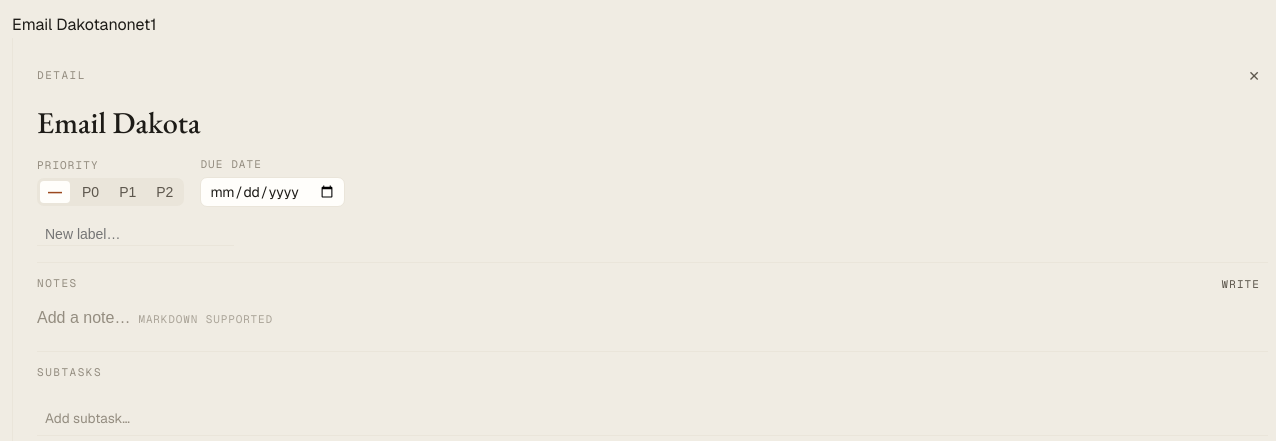
Test: DetailPaneView (store-wired) › optimistically persists a priority change
Click the button named "set priority p1": (128, 192) left=111, top=181, right=144, bottom=203
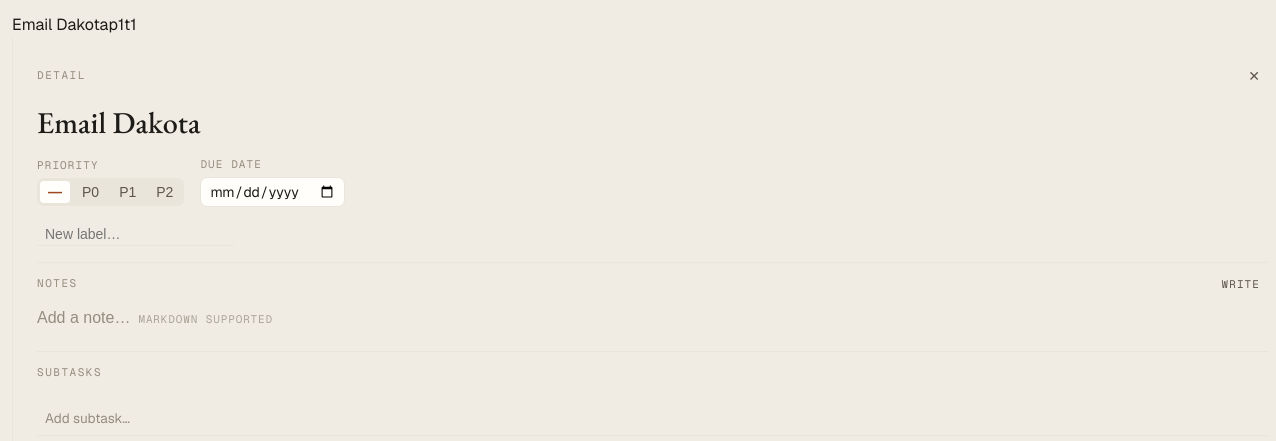
Check: the text with test id "prio" reads "p1", box left=108, top=14, right=124, bottom=35
